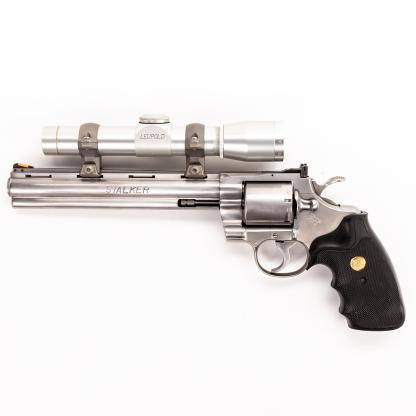handgun: (6, 110, 406, 332)
